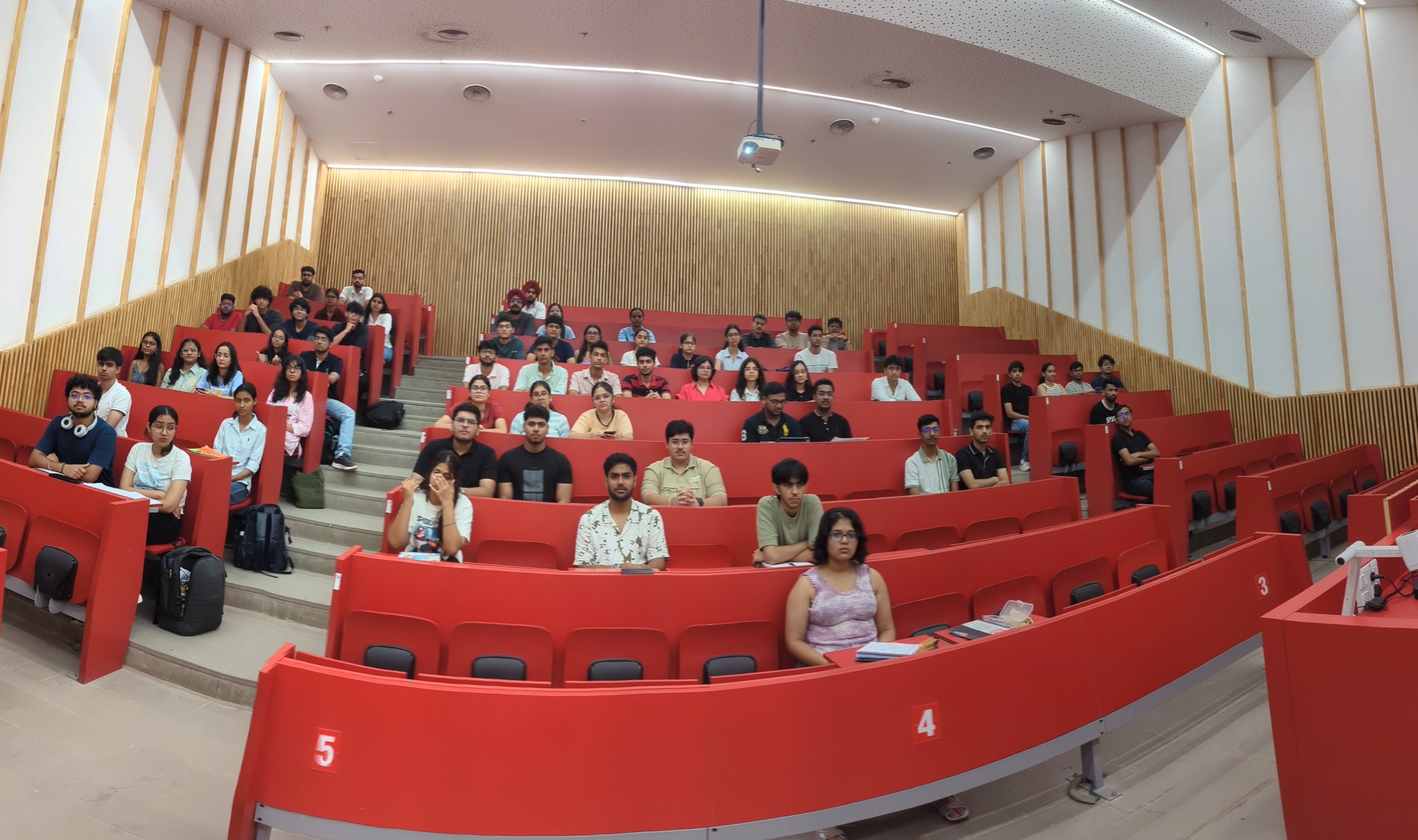student_face: (67, 380, 91, 385), (824, 525, 846, 530), (95, 342, 113, 347), (636, 327, 653, 332), (607, 457, 627, 461), (772, 462, 791, 466), (151, 404, 169, 408), (771, 394, 789, 398), (524, 408, 542, 412), (669, 421, 687, 425), (811, 381, 828, 385), (424, 448, 441, 452), (970, 412, 987, 416), (233, 383, 249, 387), (446, 405, 462, 409), (765, 381, 781, 385), (1115, 401, 1131, 405), (921, 417, 937, 421), (181, 339, 196, 343), (531, 380, 546, 384), (591, 380, 606, 384), (886, 353, 901, 357), (217, 291, 231, 295), (312, 329, 326, 333), (373, 291, 387, 295), (535, 339, 549, 343), (790, 360, 804, 364), (291, 296, 304, 300), (327, 291, 340, 295), (345, 291, 358, 295), (287, 357, 303, 360), (633, 345, 649, 348), (786, 345, 802, 348), (588, 341, 603, 344), (217, 341, 231, 344), (472, 375, 486, 378), (699, 358, 713, 361), (742, 358, 756, 361), (1011, 358, 1025, 361), (135, 332, 148, 335), (249, 283, 262, 286), (266, 325, 279, 328), (345, 267, 358, 270), (497, 313, 510, 316), (554, 322, 567, 325), (589, 322, 602, 325), (681, 330, 694, 333), (724, 322, 737, 325), (752, 307, 765, 310), (809, 322, 822, 325), (830, 314, 843, 317), (483, 340, 496, 343), (1040, 359, 1053, 362), (1068, 359, 1081, 362), (299, 267, 311, 270), (360, 267, 372, 270), (510, 287, 522, 290), (781, 307, 793, 310), (1100, 349, 1112, 352), (1105, 382, 1117, 385), (526, 270, 538, 272), (550, 300, 562, 302), (633, 309, 643, 311)
